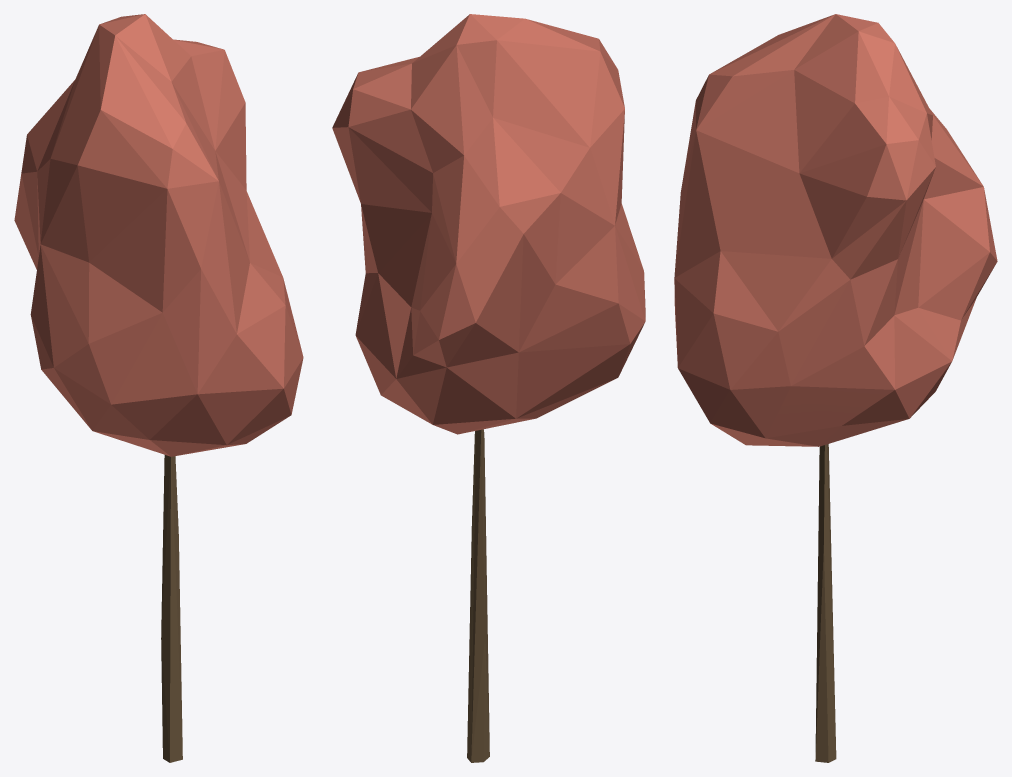
File: Tree_05.fbx
3 views of the same model, side by side, from view 1: azimuth 30°, elevation 25°; view 2: azimuth 150°, elevation 25°; view 3: azimuth 270°, elevation 25° (orthographic). The views are drawn at different scales.
Parts seen in each view (by area): view 1: Tree_05; view 2: Tree_05; view 3: Tree_05.
Part boxes in pixels (box(x1,y1,x2,y2)): Tree_05: box(14, 14, 303, 762); Tree_05: box(332, 14, 645, 762); Tree_05: box(674, 14, 997, 762).
Bounding box in the file's own units: 120 × 353 × 143.
